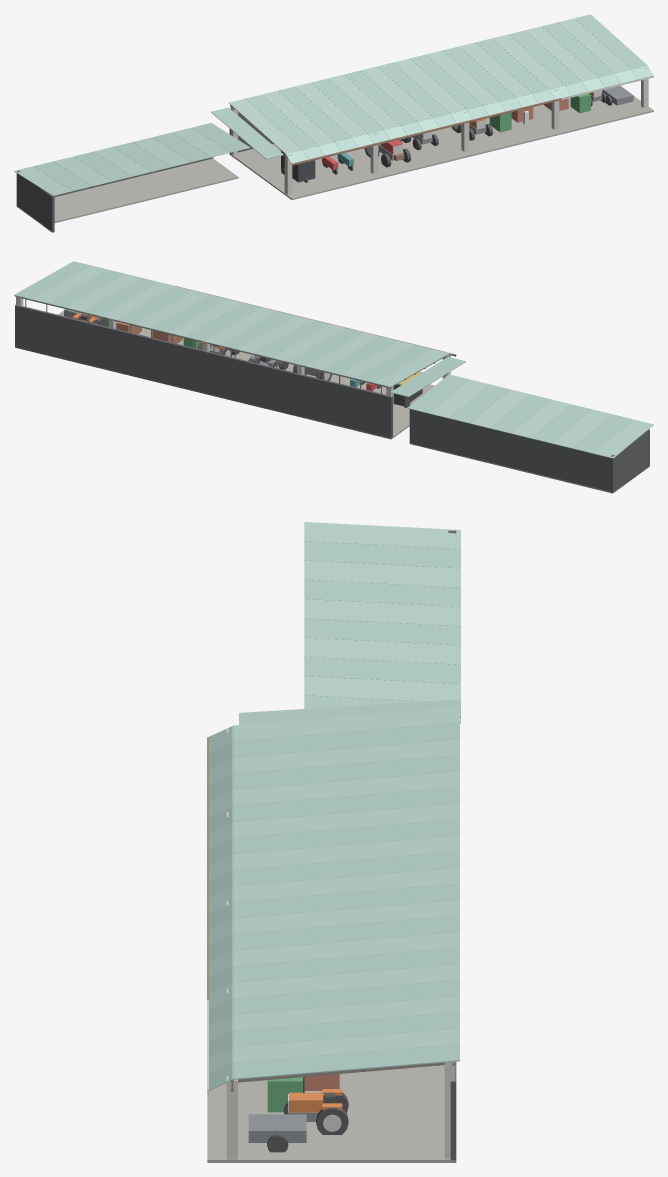
File: warehouse_4.glb
3 renders of one model, top to bottom at view 1: azimuth 30°, elevation 25°; view 2: azimuth 150°, elevation 25°; view 3: azimuth 270°, elevation 25°, orthographic. The views are drawn at different scales.
Parts seen in each view (by area): view 1: WH4_CombinedMesh; view 2: WH4_CombinedMesh; view 3: WH4_CombinedMesh.
Boxes of the visible parts, bbox=[...] form: WH4_CombinedMesh: bbox=[14, 14, 653, 232]; WH4_CombinedMesh: bbox=[14, 261, 653, 493]; WH4_CombinedMesh: bbox=[207, 522, 460, 1162].
Size of the model in its own units: 42.53 by 3.62 by 8.11.
